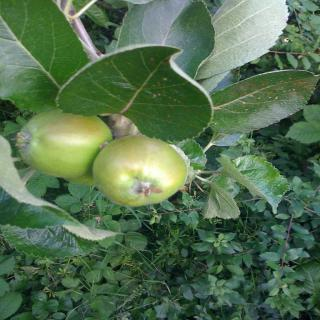Pear: (94, 137, 190, 211)
